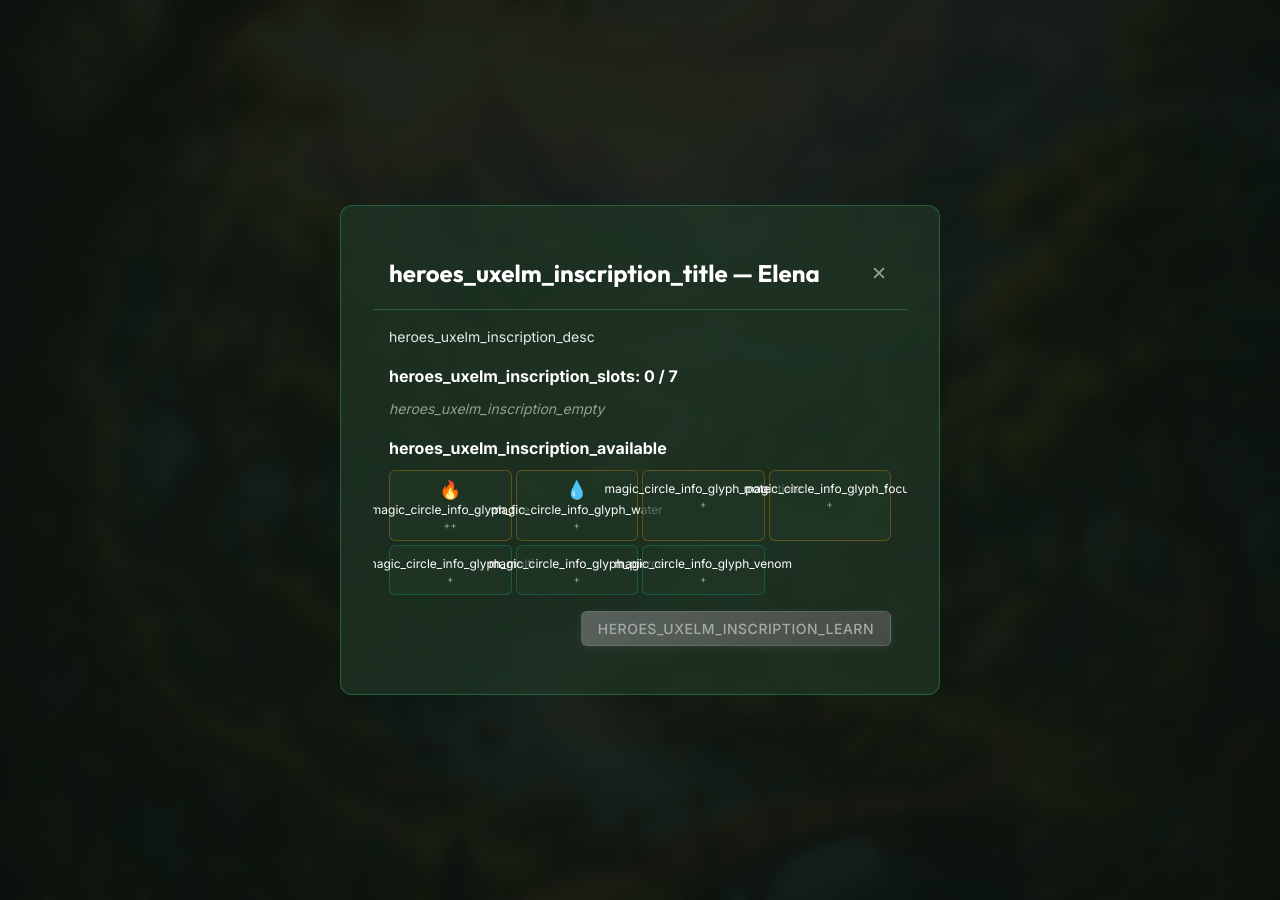
Test case: HeroInscriptionModal › selects glyphs when clicked
Click the button with class "glyph-option" that starts with "magic_circle_info_glyph_fire" at coordinates (450, 505), box [389,470,512,541]
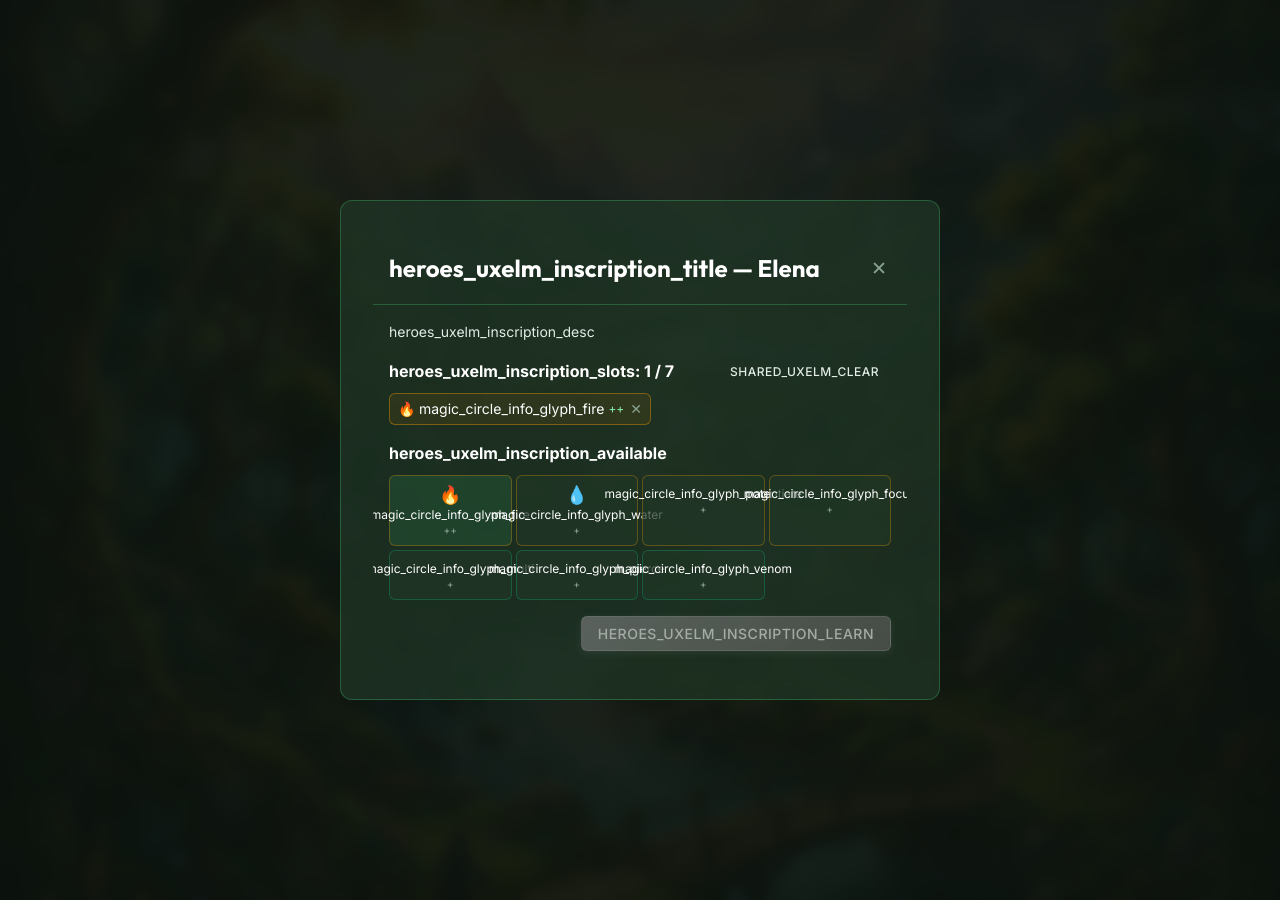
Check: the number of elements with class "glyph-chip" is 1, box [389,393,651,425]
